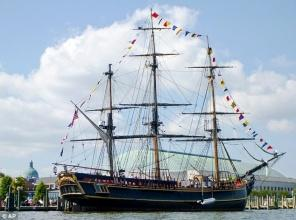fanchuan: (58, 5, 283, 209)
